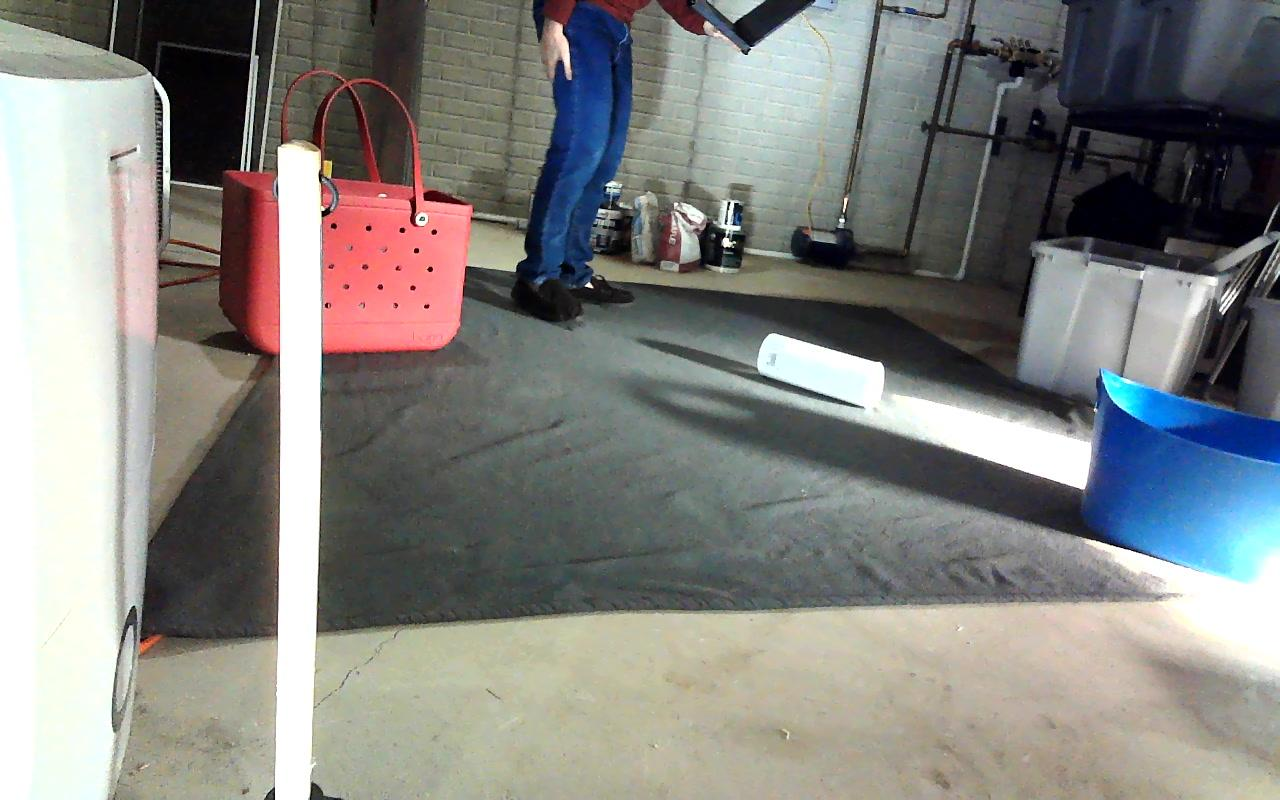coral: (757, 333, 884, 409)
